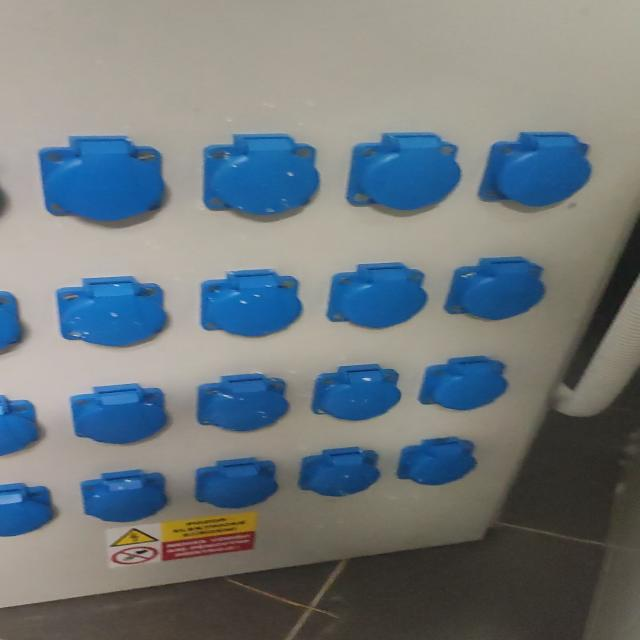house plug covered: (37, 136, 168, 222), (201, 133, 321, 215), (345, 132, 462, 211), (477, 132, 594, 207), (56, 276, 167, 346), (198, 269, 305, 336), (328, 265, 425, 329), (448, 259, 545, 322), (72, 387, 165, 445), (195, 377, 287, 433), (417, 355, 508, 411), (79, 469, 167, 523), (311, 368, 398, 422), (195, 458, 278, 509), (396, 437, 478, 488), (297, 447, 380, 497), (0, 483, 59, 541)
